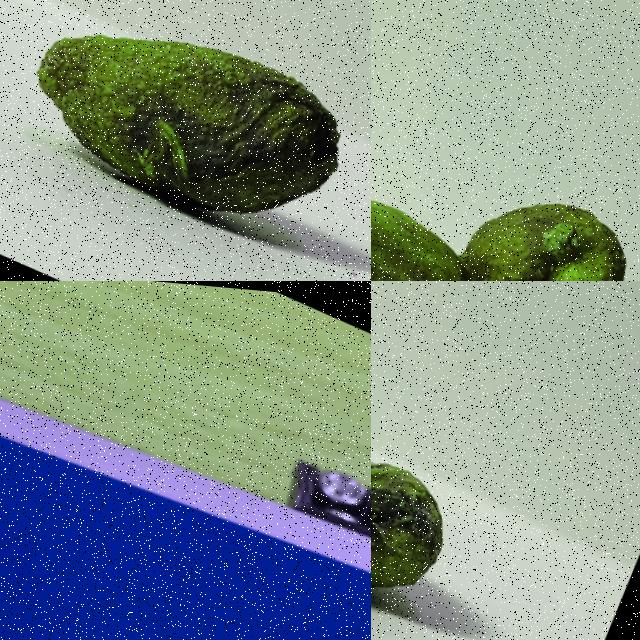Agglomerated_cocoabeans: (371, 0, 639, 280), (371, 308, 552, 639)
Fine_cocoabeans: (0, 0, 370, 280), (139, 542, 370, 639)
